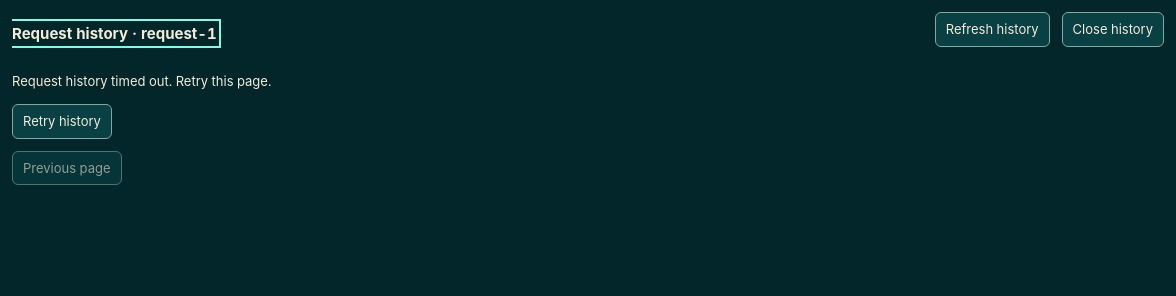
Scenario: retained request inspection › offers local Retry after timeout without expiring authentication and clears the old read
Expected: the message shows "timed out", [12,73,271,89]
Click the button "Retry history": (62, 121) [12,104,112,138]
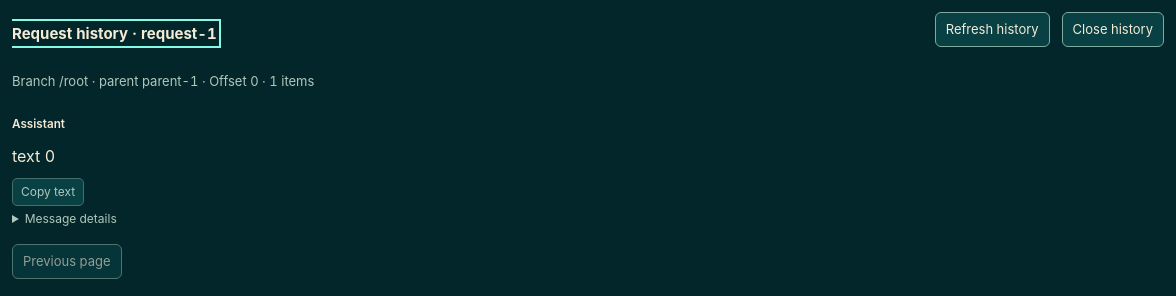
Expected: the element named "Text item 0" is shown, [12,146,55,166]
Expected: the message "Request history timed out. Retry this page. Retry history" is gone
